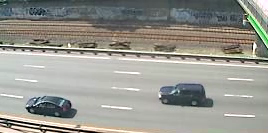car: (158, 81, 208, 107), (23, 93, 73, 119)
